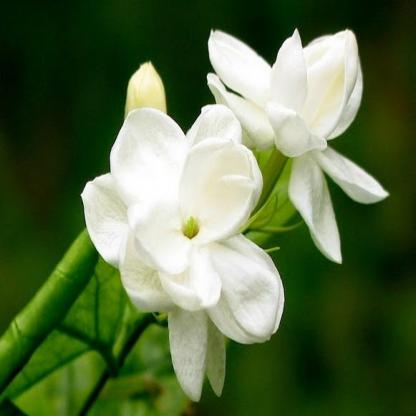Melati: (67, 72, 289, 401), (200, 7, 388, 264)
